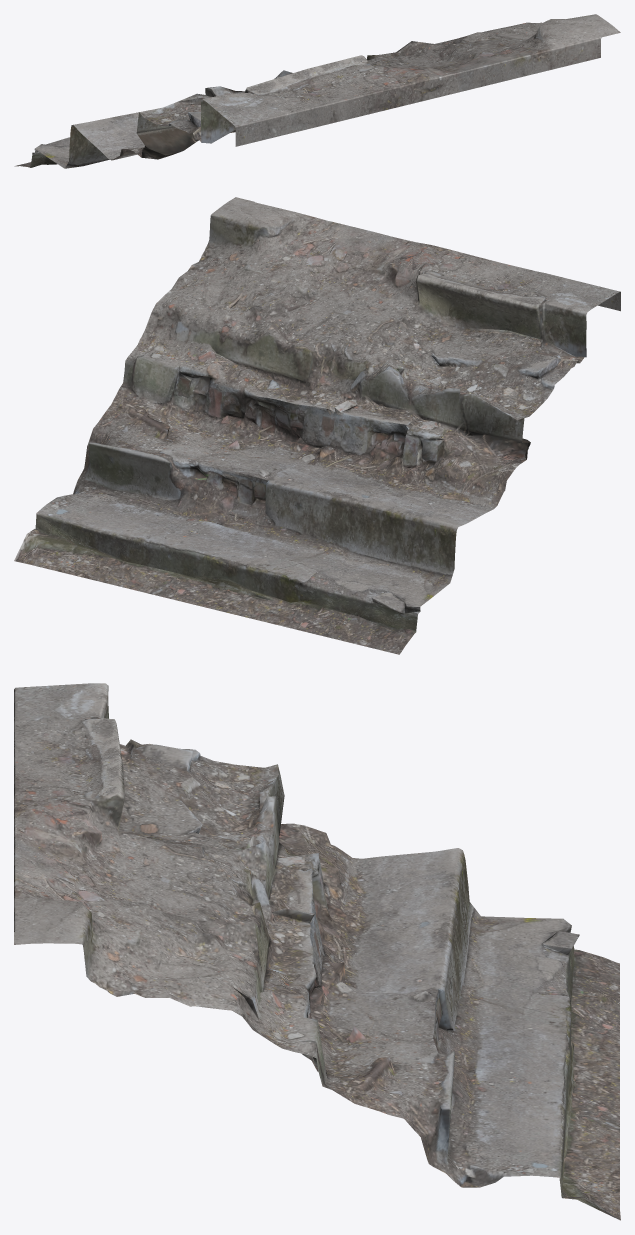
Rendered from SM_Stairs_01_06.fbx.
3 renders of one model, top to bottom at view 1: azimuth 30°, elevation 25°; view 2: azimuth 150°, elevation 25°; view 3: azimuth 270°, elevation 25°, orthographic. The views are drawn at different scales.
Visible parts, largest first — view 1: sm_Stairs_01_06_LOD0; view 2: sm_Stairs_01_06_LOD0; view 3: sm_Stairs_01_06_LOD0.
Part boxes in pixels (x1,y1,x2,y2): sm_Stairs_01_06_LOD0: [14, 14, 620, 168]; sm_Stairs_01_06_LOD0: [14, 197, 620, 654]; sm_Stairs_01_06_LOD0: [14, 683, 620, 1220].
Size of the model in its own units: 199 by 200 by 103.
